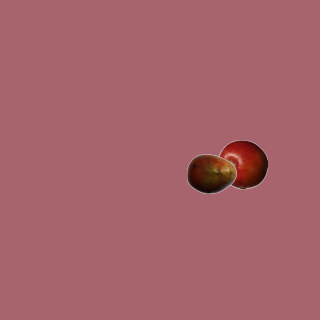Apple Braeburn: (217, 139, 267, 189)
Mango Red: (186, 148, 236, 198)
